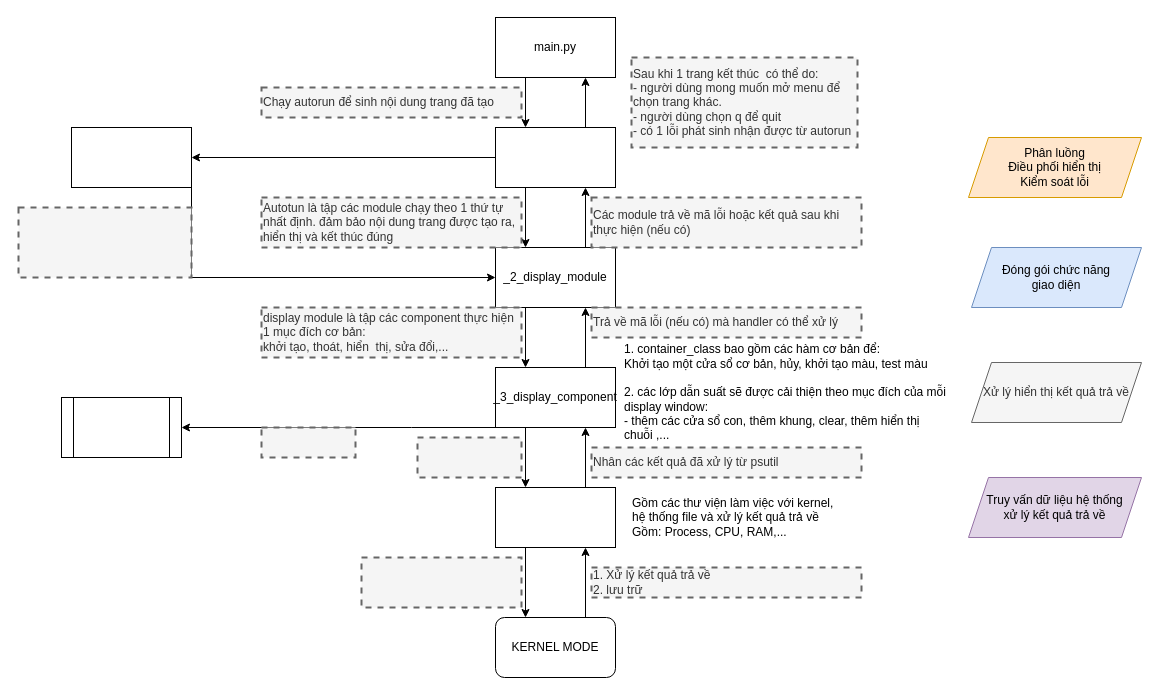
Image size: 1159x695. Some labels were removed from this diagram. Each missing label, with the box of its shape:
_1_autorun: (494, 126, 616, 188)
_4_system_data: (494, 486, 616, 548)
gọi module kiểm tra kích thước gọi module điều chỉnh kích thước sleep second: (17, 206, 192, 278)
Hiển thị kết quả đã xử lý: (260, 426, 356, 458)
Psutil 1.Lấy thông tin sẵn có 2.Yêu cầu sửa đổi hệ thống: (360, 556, 522, 608)
TERMINAL: (60, 396, 182, 458)
Thread điều chỉnh giao diện: (70, 126, 192, 188)
yêu cầu psutil lấy lấy dữ liệu: (416, 436, 522, 478)
